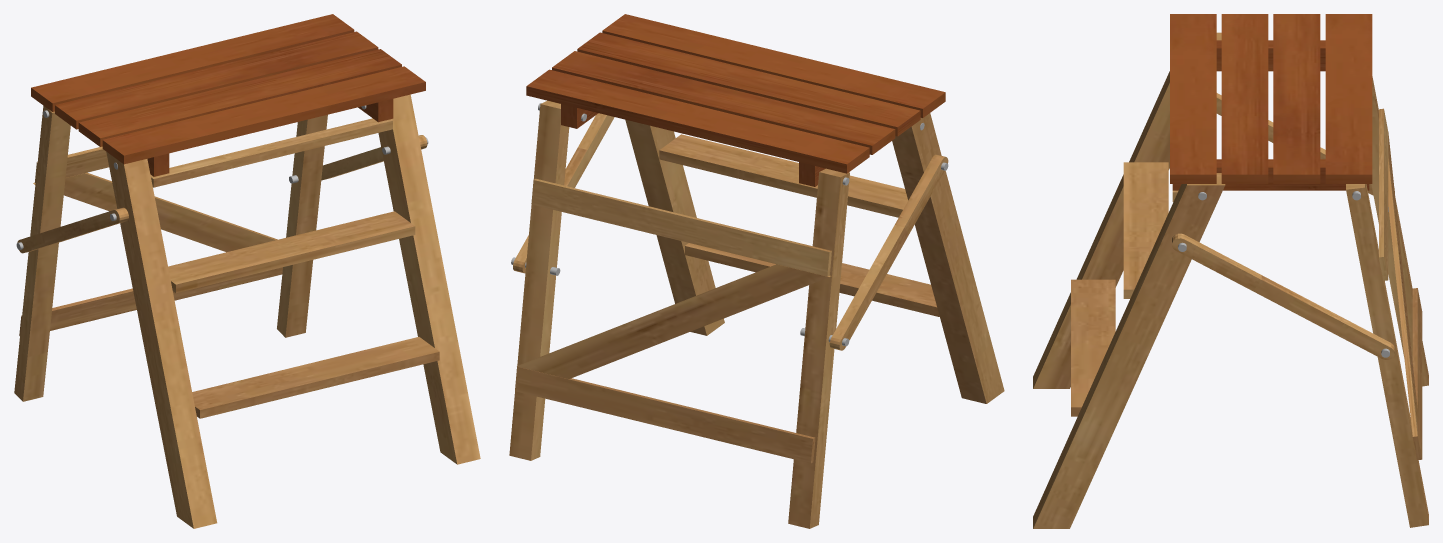
File: sh-scopia-step-ladder-wood.glb
3 views of the same model, side by side, from view 1: azimuth 30°, elevation 25°; view 2: azimuth 150°, elevation 25°; view 3: azimuth 270°, elevation 25° (orthographic). The views are drawn at different scales.
Parts seen in each view (by area): view 1: Cube.009_Cube.018; view 2: Cube.009_Cube.018; view 3: Cube.009_Cube.018.
Boxes of the visible parts, x1,y1,x2,y2 form: Cube.009_Cube.018: (14, 14, 480, 528); Cube.009_Cube.018: (509, 14, 1004, 528); Cube.009_Cube.018: (1033, 14, 1428, 528).
Bounding box in the file's own units: 1 × 1 × 1.
Materials: 2 (1 with a texture image).
